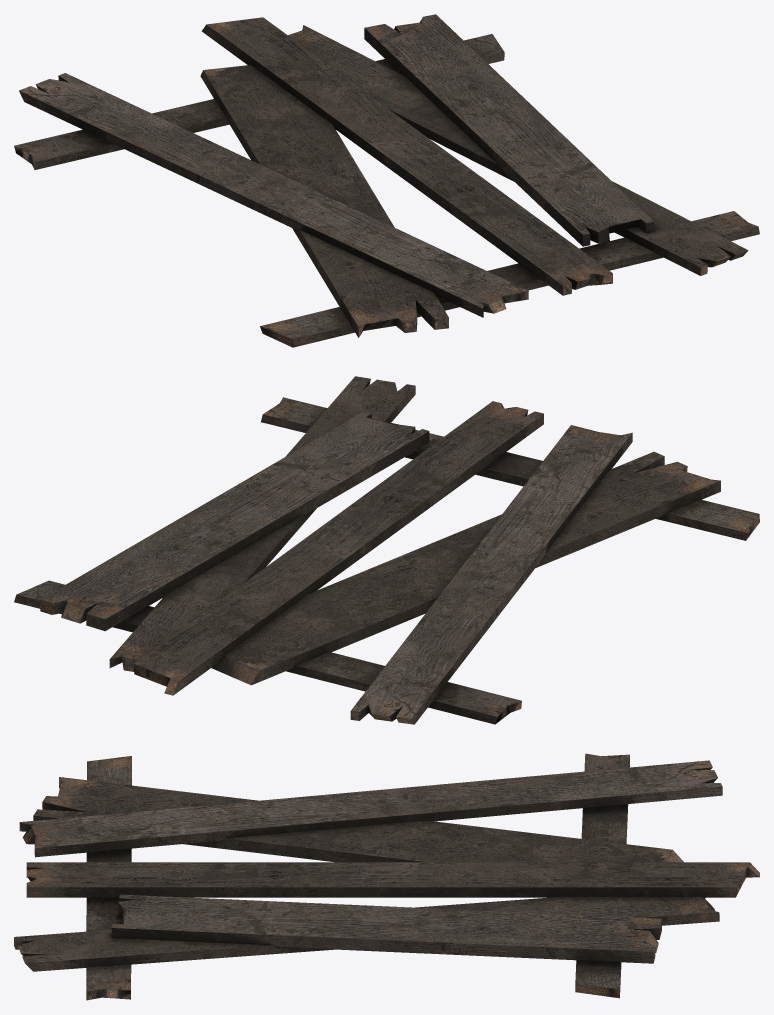
File: SM_WoodBoards_2x2_02.glb
3 views of the same model, one above another, from view 1: azimuth 30°, elevation 25°; view 2: azimuth 150°, elevation 25°; view 3: azimuth 270°, elevation 25° (orthographic). The views are drawn at different scales.
Visible parts, largest first — view 1: SM_WoodBoards_2x2_02; view 2: SM_WoodBoards_2x2_02; view 3: SM_WoodBoards_2x2_02.
Part boxes in pixels (left/top/right/bottom): SM_WoodBoards_2x2_02: left=14, top=14, right=759, bottom=347; SM_WoodBoards_2x2_02: left=14, top=376, right=759, bottom=724; SM_WoodBoards_2x2_02: left=14, top=753, right=759, bottom=1000.
Bounding box in the file's own units: 1.33 × 0.0706 × 1.76.
1 material, 1 textured.
